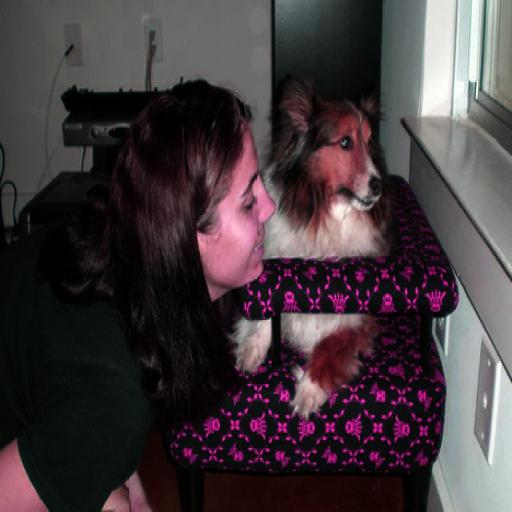dog_face: (275, 75, 384, 222)
